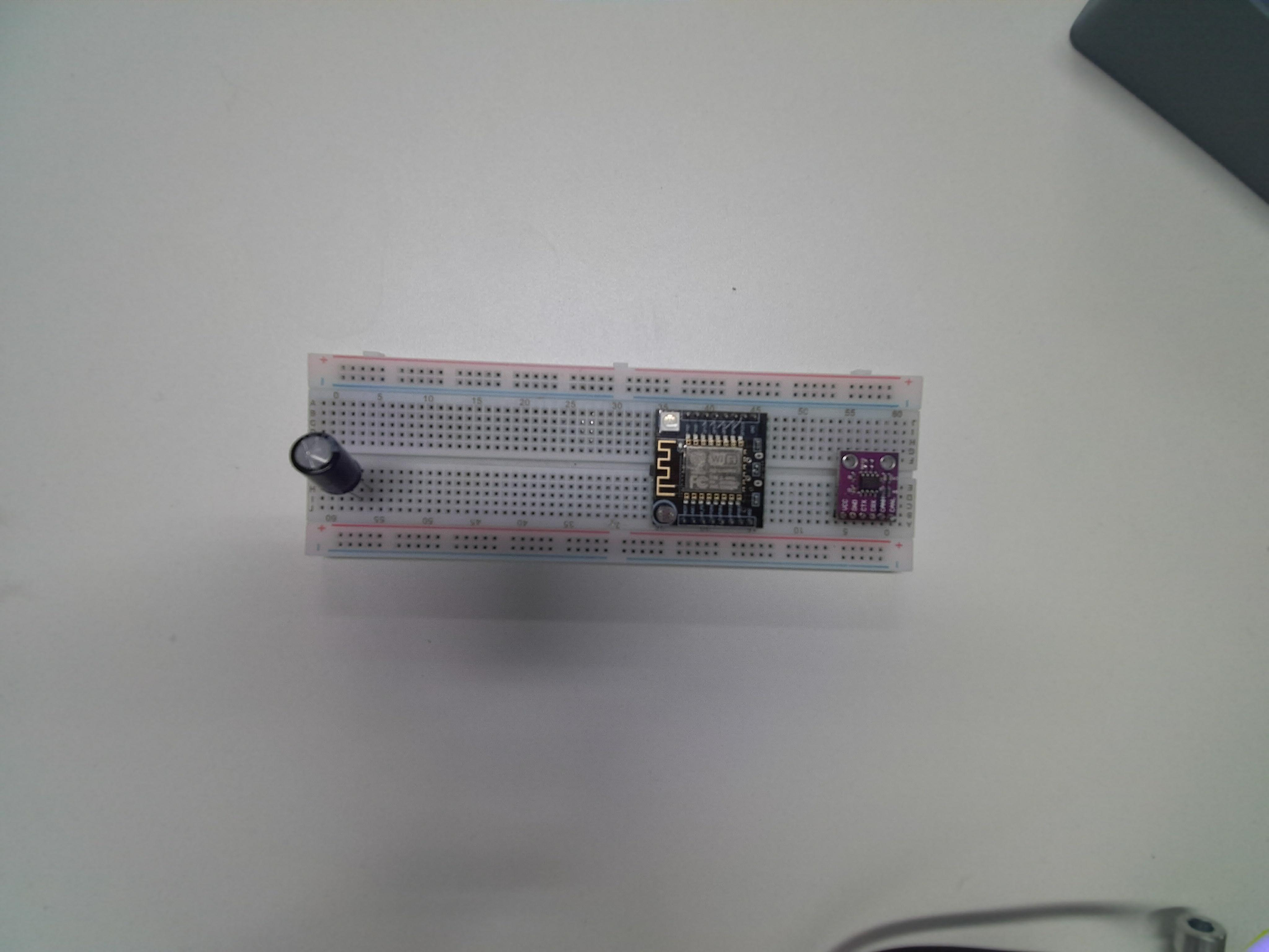base: (290, 360, 924, 578)
capacitor: (285, 429, 364, 500)
esp: (649, 408, 768, 531)
purple-board: (836, 450, 900, 525)
